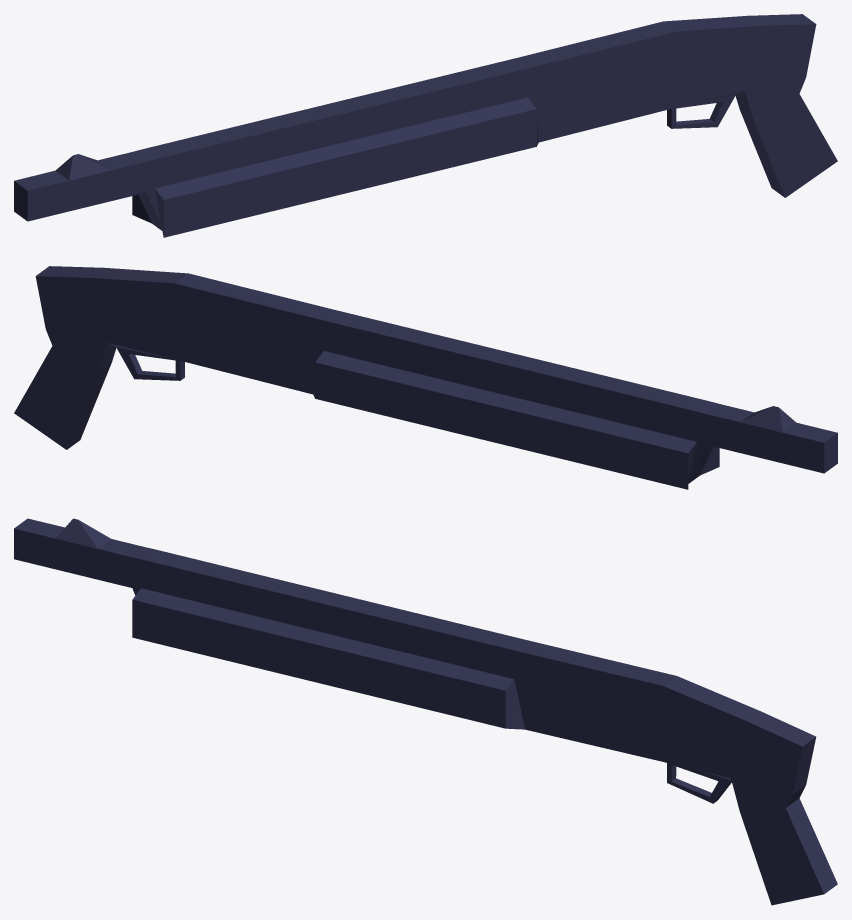
File: TacticalShotgun.fbx
3 views of the same model, one above another, from view 1: azimuth 30°, elevation 25°; view 2: azimuth 150°, elevation 25°; view 3: azimuth 330°, elevation 25° (orthographic).
Parts seen in each view (by area): view 1: Cube; view 2: Cube; view 3: Cube.
Boxes of the visible parts, x1,y1,x2,y2 form: Cube: (14, 14, 837, 237); Cube: (14, 266, 837, 489); Cube: (14, 518, 837, 905).
Bounding box in the file's own units: 101 × 25.08 × 6.78.
